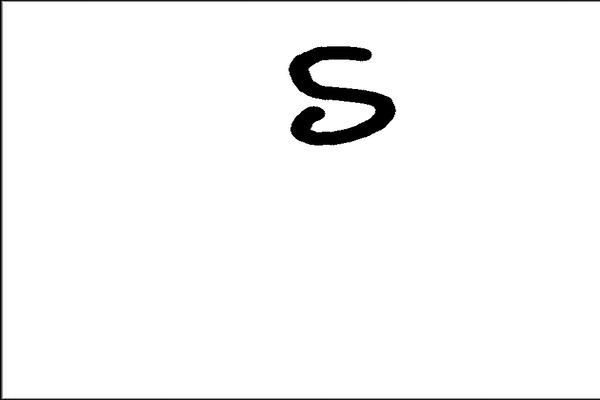S: (277, 37, 399, 150)
